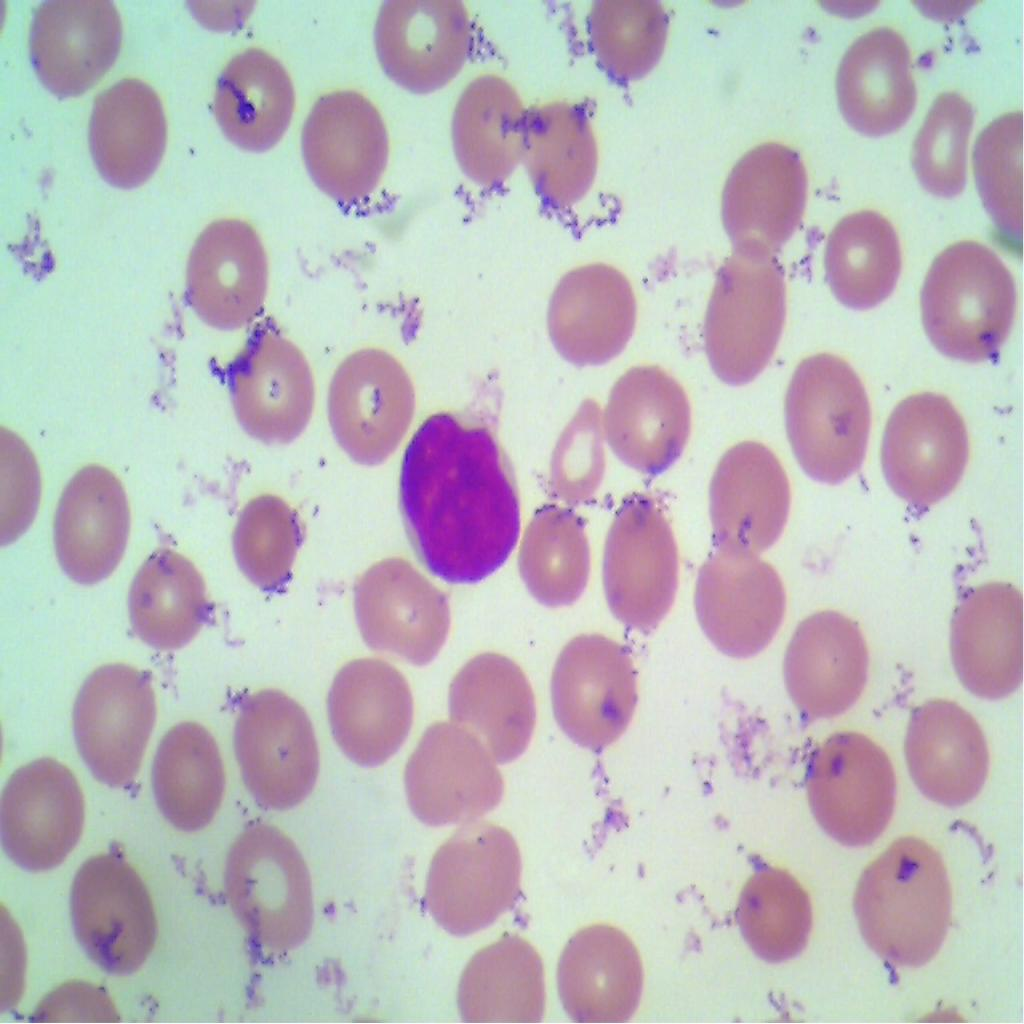Eritrosit: (781, 355, 883, 504), (790, 722, 901, 855), (858, 832, 962, 971), (878, 385, 982, 521), (219, 817, 321, 955), (915, 230, 1021, 360), (63, 654, 162, 793), (418, 815, 535, 931), (706, 238, 798, 385), (296, 92, 399, 221), (400, 719, 518, 831), (549, 904, 658, 1023), (549, 627, 653, 751), (228, 678, 328, 806), (598, 492, 686, 637), (779, 596, 876, 726), (442, 649, 546, 768), (209, 32, 304, 162), (513, 94, 611, 219), (716, 136, 810, 266), (324, 340, 418, 470), (724, 854, 823, 975), (935, 569, 1023, 705), (318, 652, 419, 770), (18, 0, 135, 101), (822, 24, 924, 138), (224, 326, 316, 452), (906, 690, 1001, 811), (696, 538, 786, 664), (702, 435, 798, 552), (78, 74, 173, 192), (353, 557, 451, 671), (124, 535, 218, 652), (606, 352, 690, 481), (441, 67, 526, 194), (74, 850, 158, 977), (0, 758, 94, 870), (149, 716, 231, 842), (179, 215, 275, 319), (451, 922, 546, 1023), (546, 261, 638, 365), (515, 501, 594, 622), (55, 465, 129, 594), (543, 384, 615, 514), (371, 0, 476, 89), (230, 474, 304, 600), (824, 211, 913, 314), (908, 85, 976, 205), (582, 0, 680, 78)
Limfoblast: (393, 415, 528, 588)
